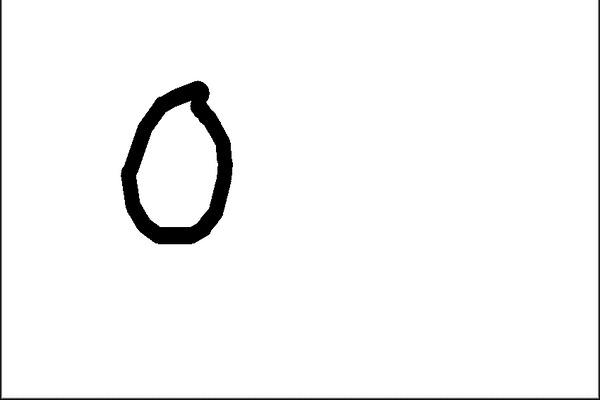O: (109, 74, 241, 253)
